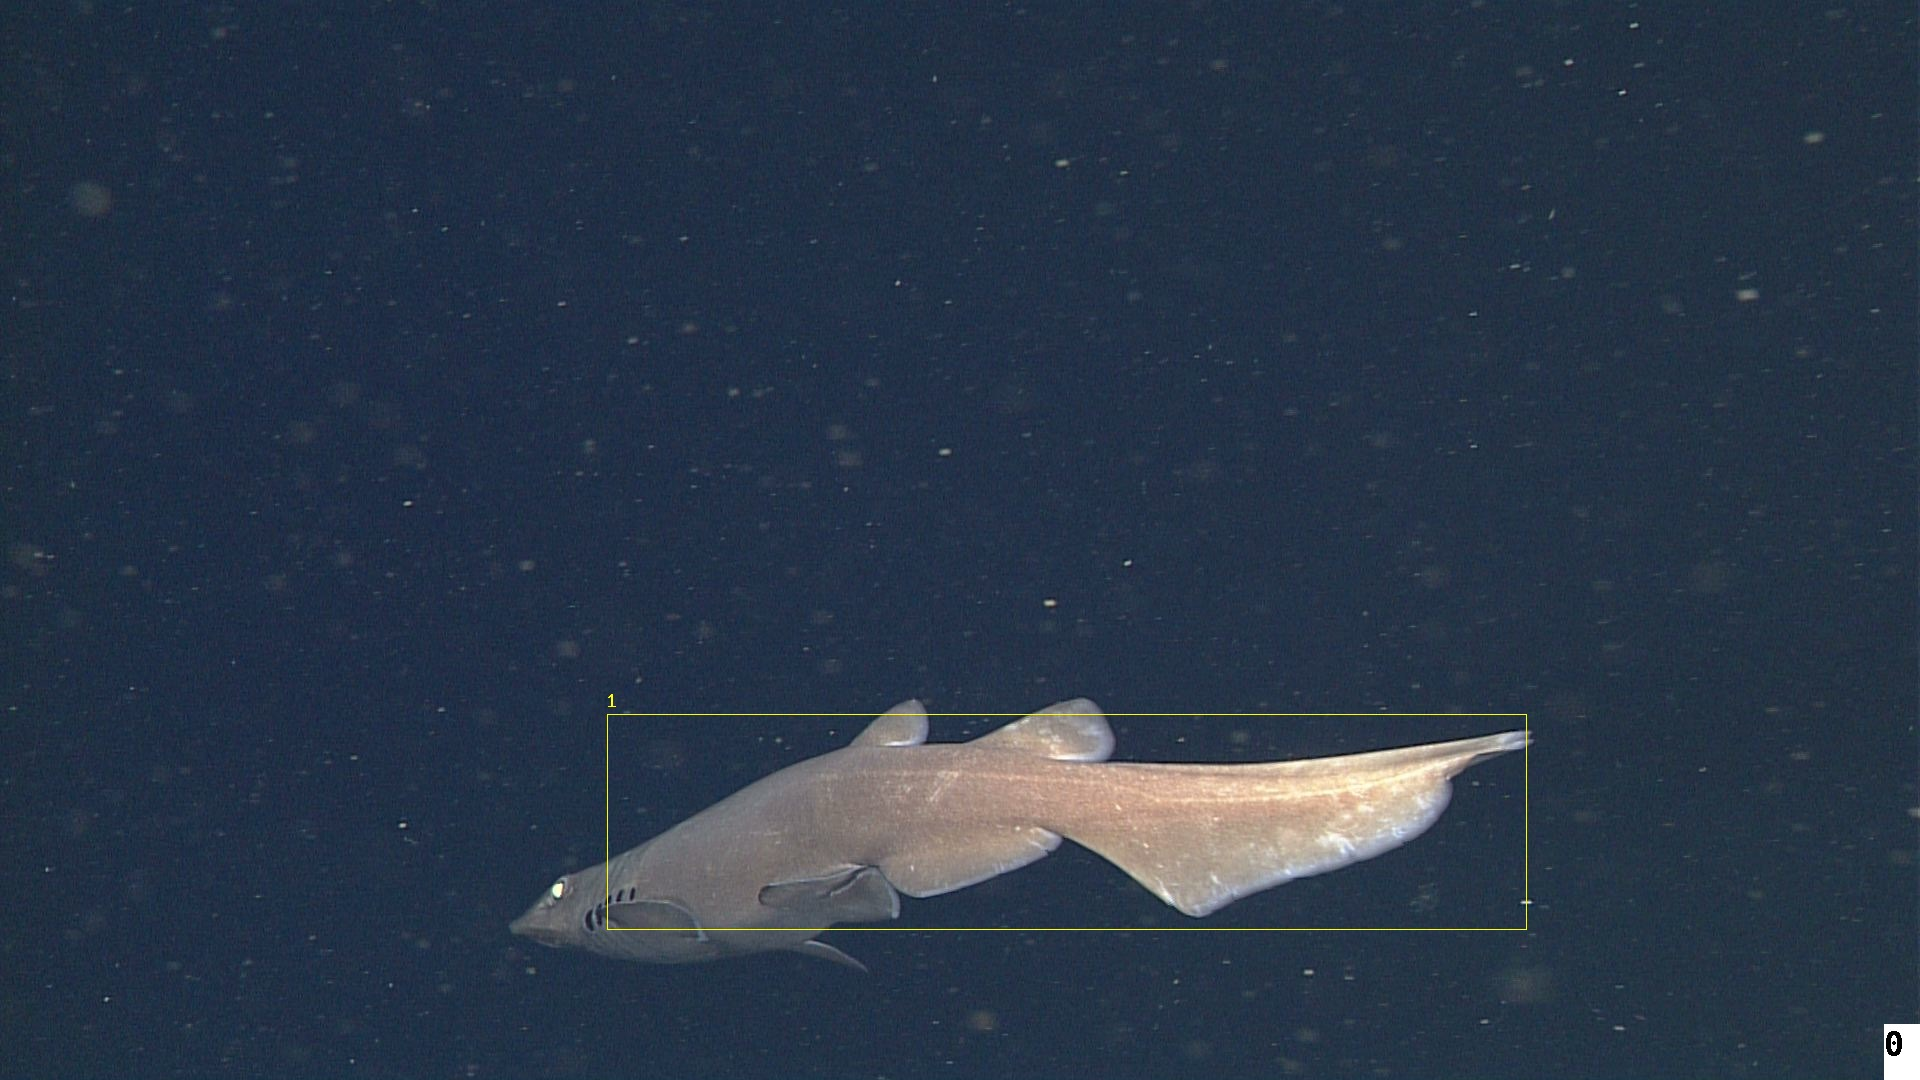shark: (473, 641, 1565, 1010)
